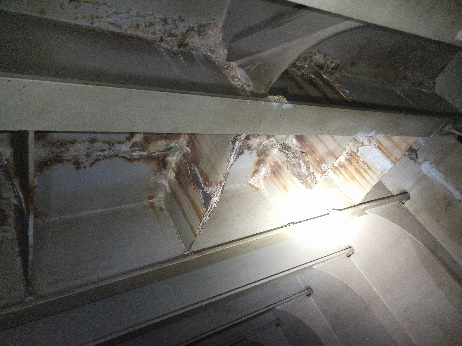corrosion: (168, 133, 224, 234), (242, 134, 333, 195), (30, 125, 174, 163), (284, 58, 350, 98), (332, 150, 380, 193), (371, 131, 418, 166)
